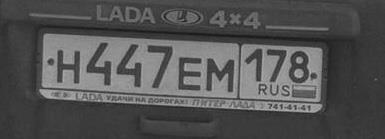license-plateSW: (41, 30, 324, 103)
